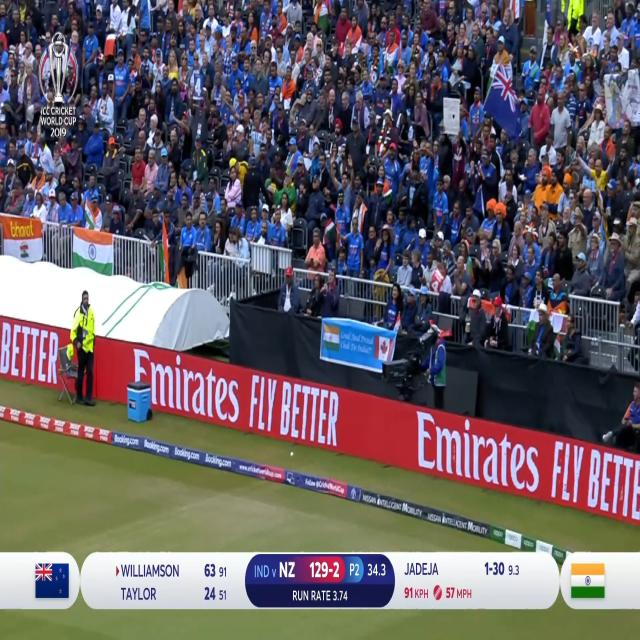ball: (287, 448, 297, 460)
